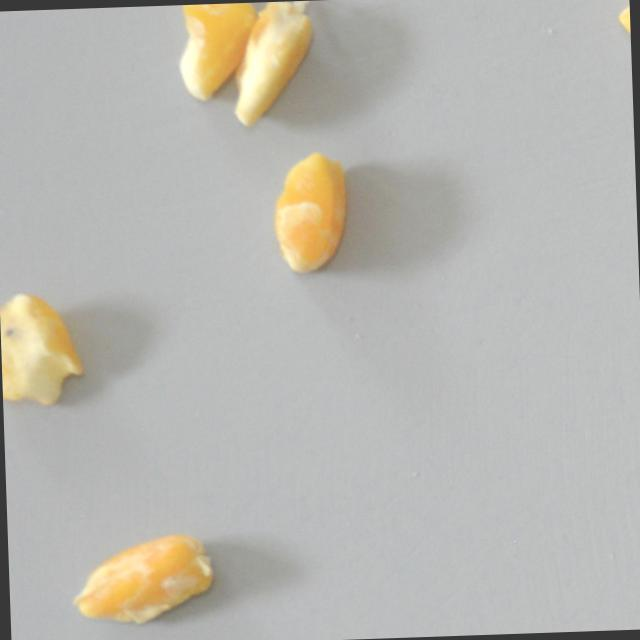dañado: (64, 517, 228, 636), (229, 0, 329, 130), (265, 144, 356, 281), (169, 2, 263, 109)
punto_negro: (0, 283, 91, 410)
